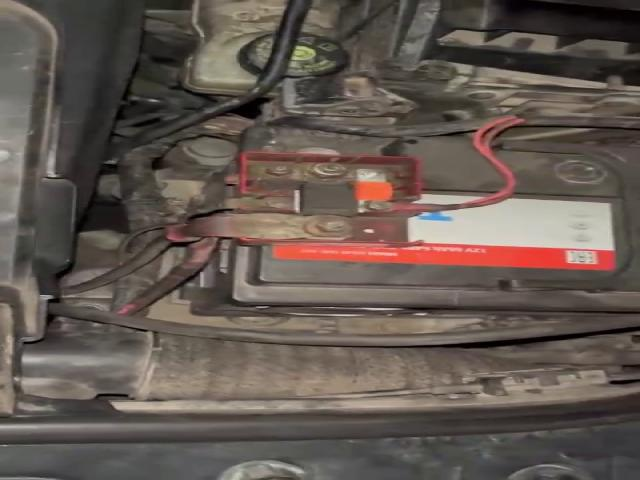accumulator: (190, 134, 640, 317)
